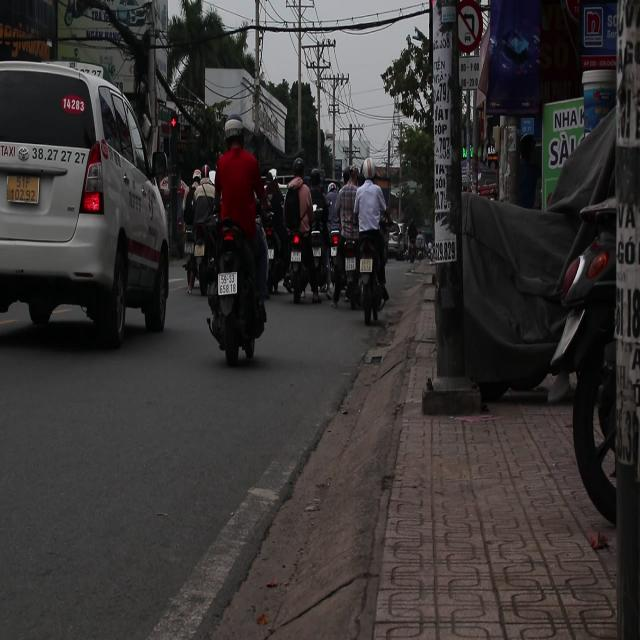car: (0, 60, 173, 348)
motorbike: (203, 219, 267, 364), (344, 233, 390, 322), (287, 232, 313, 312), (387, 226, 407, 263)
